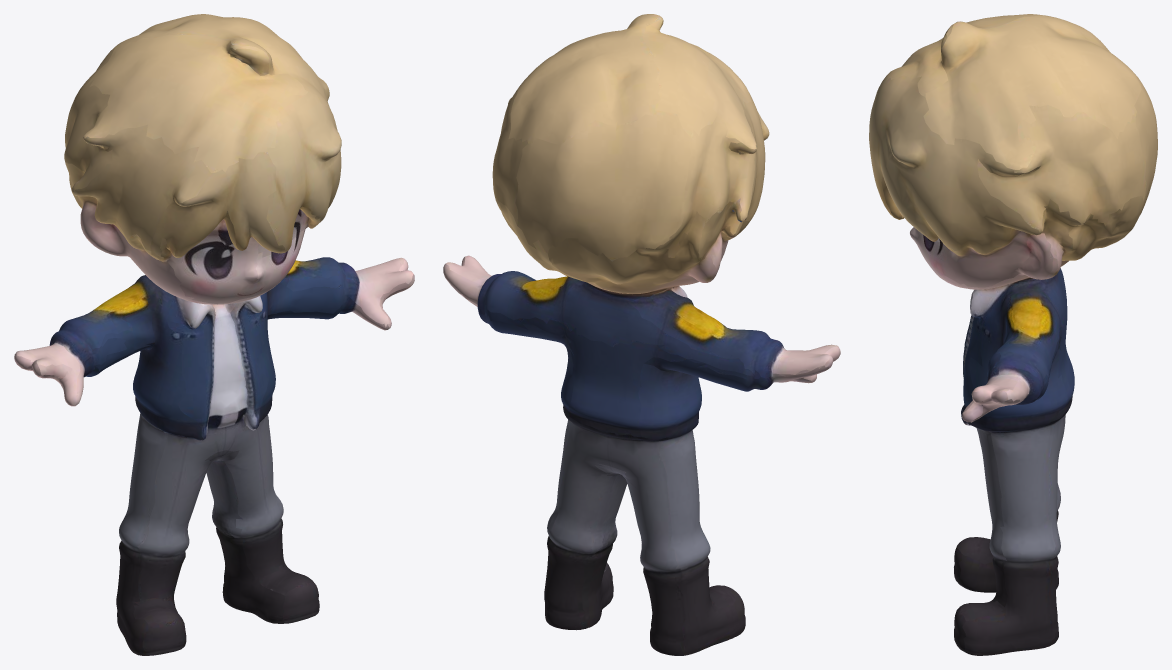
File: kestrel.glb
3 views of the same model, side by side, from view 1: azimuth 30°, elevation 25°; view 2: azimuth 150°, elevation 25°; view 3: azimuth 270°, elevation 25° (orthographic).
Visible parts, largest first — view 1: kestrel_s21; view 2: kestrel_s21; view 3: kestrel_s21.
Part boxes in pixels (x1,y1,x2,y2): kestrel_s21: [14, 14, 414, 655]; kestrel_s21: [443, 14, 840, 655]; kestrel_s21: [869, 14, 1157, 655].
Bounding box in the file's own units: 0.6884 × 1 × 0.4418.
Materials: 1 (1 with a texture image).
